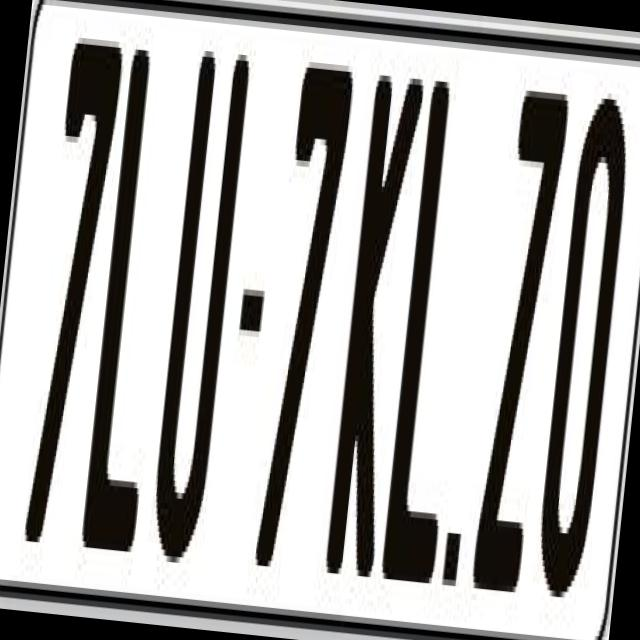0: (528, 78, 640, 600)
7: (247, 49, 359, 570), (18, 31, 122, 540)
K: (326, 63, 430, 572)
L: (376, 63, 488, 602), (80, 31, 186, 534)
U: (145, 38, 259, 571)
Z: (468, 84, 578, 610)
